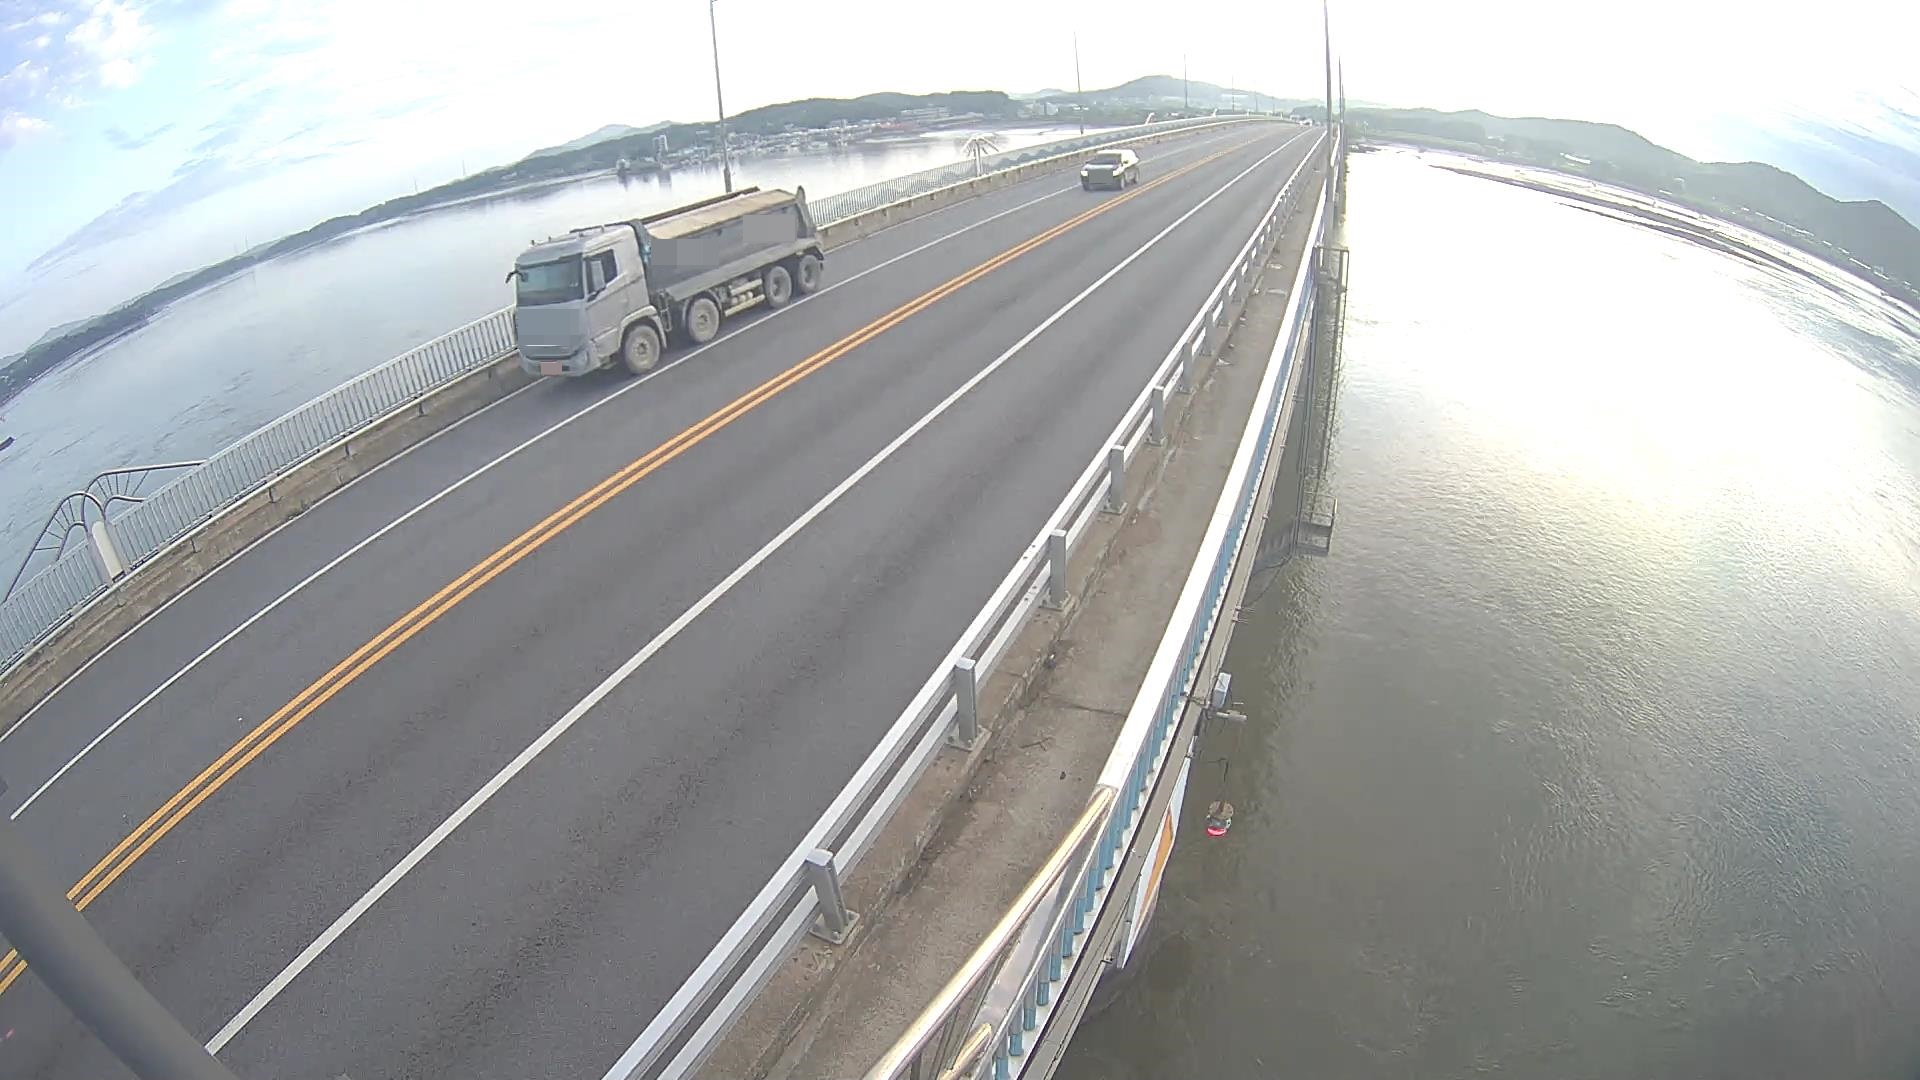정상차량: (505, 185, 825, 376)
